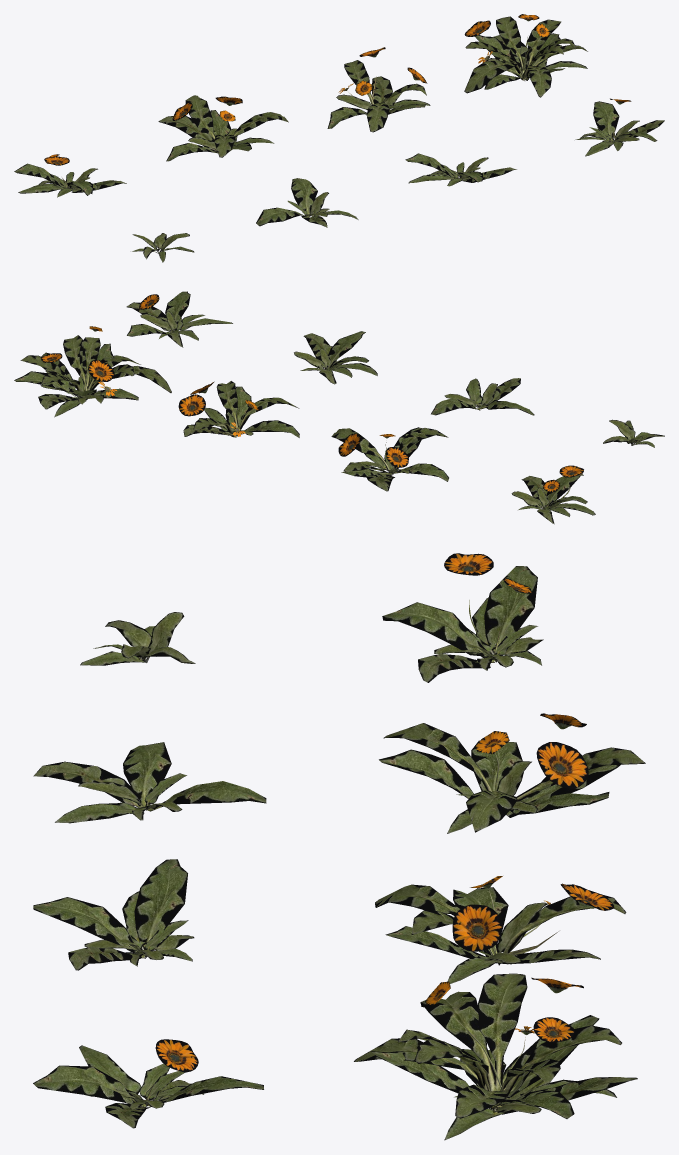
File: ph_flower_gazania.glb
3 views of the same model, one above another, from view 1: azimuth 30°, elevation 25°; view 2: azimuth 150°, elevation 25°; view 3: azimuth 270°, elevation 25° (orthographic). The views are drawn at different scales.
Visible parts, largest first — view 1: flower_gazania_h_LOD0, flower_gazania_f_LOD0, flower_gazania_g_LOD0, flower_gazania_d_LOD0, flower_gazania_b_LOD0, flower_gazania_e_LOD0, flower_gazania_c_LOD0, flower_gazania_a_LOD0; view 2: flower_gazania_h_LOD0, flower_gazania_g_LOD0, flower_gazania_f_LOD0, flower_gazania_d_LOD0, flower_gazania_e_LOD0, flower_gazania_c_LOD0, flower_gazania_b_LOD0, flower_gazania_a_LOD0; view 3: flower_gazania_h_LOD0, flower_gazania_f_LOD0, flower_gazania_g_LOD0, flower_gazania_e_LOD0, flower_gazania_c_LOD0, flower_gazania_d_LOD0, flower_gazania_b_LOD0, flower_gazania_a_LOD0.
Part boxes in pixels (bbox=[...]): flower_gazania_h_LOD0: bbox=[464, 14, 587, 97]; flower_gazania_f_LOD0: bbox=[158, 95, 288, 161]; flower_gazania_g_LOD0: bbox=[327, 47, 430, 132]; flower_gazania_d_LOD0: bbox=[575, 98, 664, 156]; flower_gazania_b_LOD0: bbox=[256, 178, 358, 227]; flower_gazania_e_LOD0: bbox=[14, 154, 126, 197]; flower_gazania_c_LOD0: bbox=[405, 153, 516, 186]; flower_gazania_a_LOD0: bbox=[132, 233, 194, 262]; flower_gazania_h_LOD0: bbox=[14, 326, 171, 417]; flower_gazania_g_LOD0: bbox=[178, 381, 299, 437]; flower_gazania_f_LOD0: bbox=[331, 427, 448, 491]; flower_gazania_d_LOD0: bbox=[126, 291, 232, 347]; flower_gazania_e_LOD0: bbox=[511, 465, 595, 524]; flower_gazania_c_LOD0: bbox=[294, 331, 377, 384]; flower_gazania_b_LOD0: bbox=[431, 378, 534, 415]; flower_gazania_a_LOD0: bbox=[603, 419, 664, 447]; flower_gazania_h_LOD0: bbox=[354, 973, 637, 1140]; flower_gazania_f_LOD0: bbox=[379, 713, 645, 833]; flower_gazania_g_LOD0: bbox=[375, 876, 626, 983]; flower_gazania_e_LOD0: bbox=[382, 553, 543, 682]; flower_gazania_c_LOD0: bbox=[33, 859, 194, 970]; flower_gazania_d_LOD0: bbox=[33, 1039, 263, 1128]; flower_gazania_b_LOD0: bbox=[33, 742, 266, 823]; flower_gazania_a_LOD0: bbox=[80, 612, 195, 665].
Size of the model in its own units: 1.48 by 0.1652 by 0.7015.
Materials: 1 (1 with a texture image).
